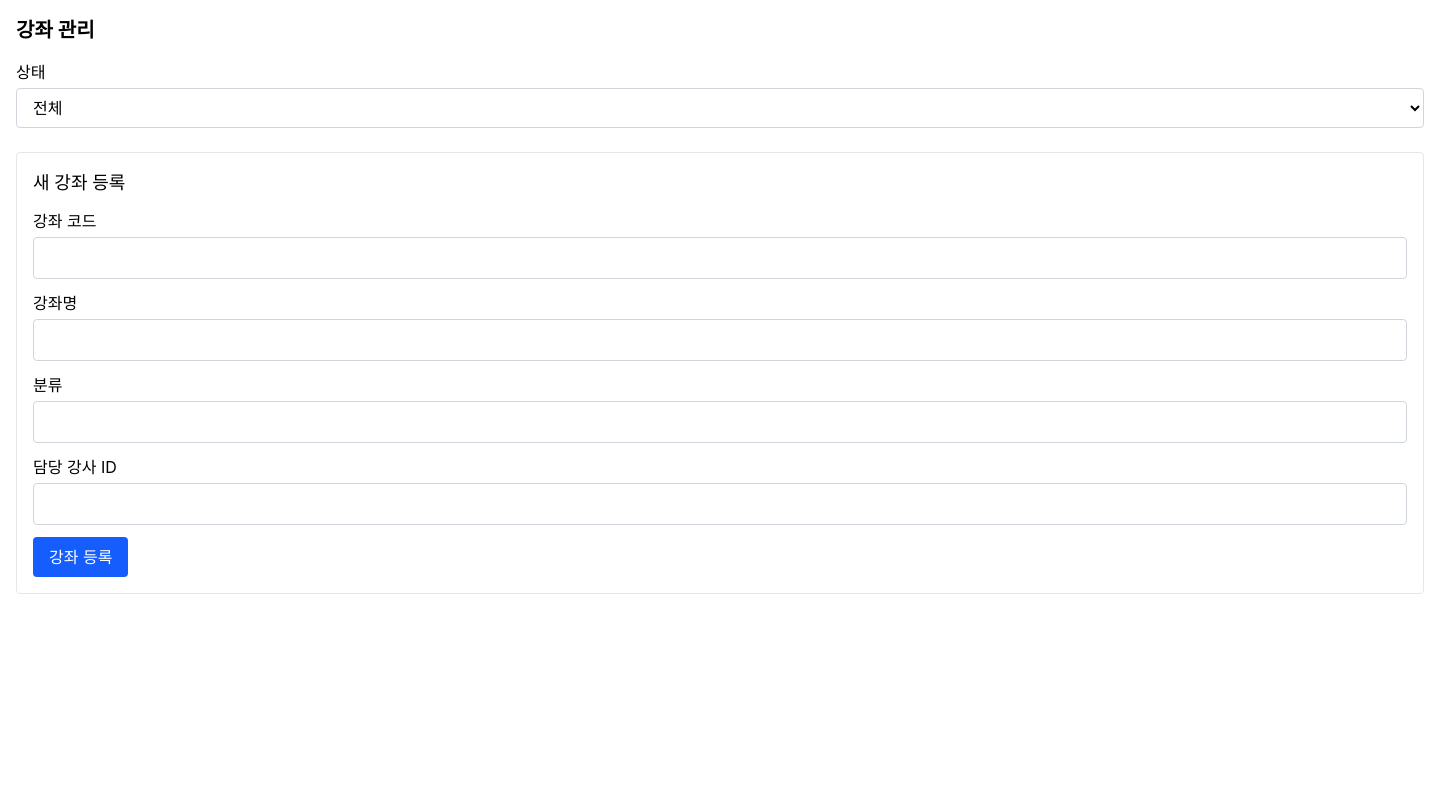
CourseListPage › submits the create form and reloads the list
Type "ENG-1" into the field labelled "강좌 코드".
click(720, 258); type("ENG-1")  # box 33,237 -> 1407,279
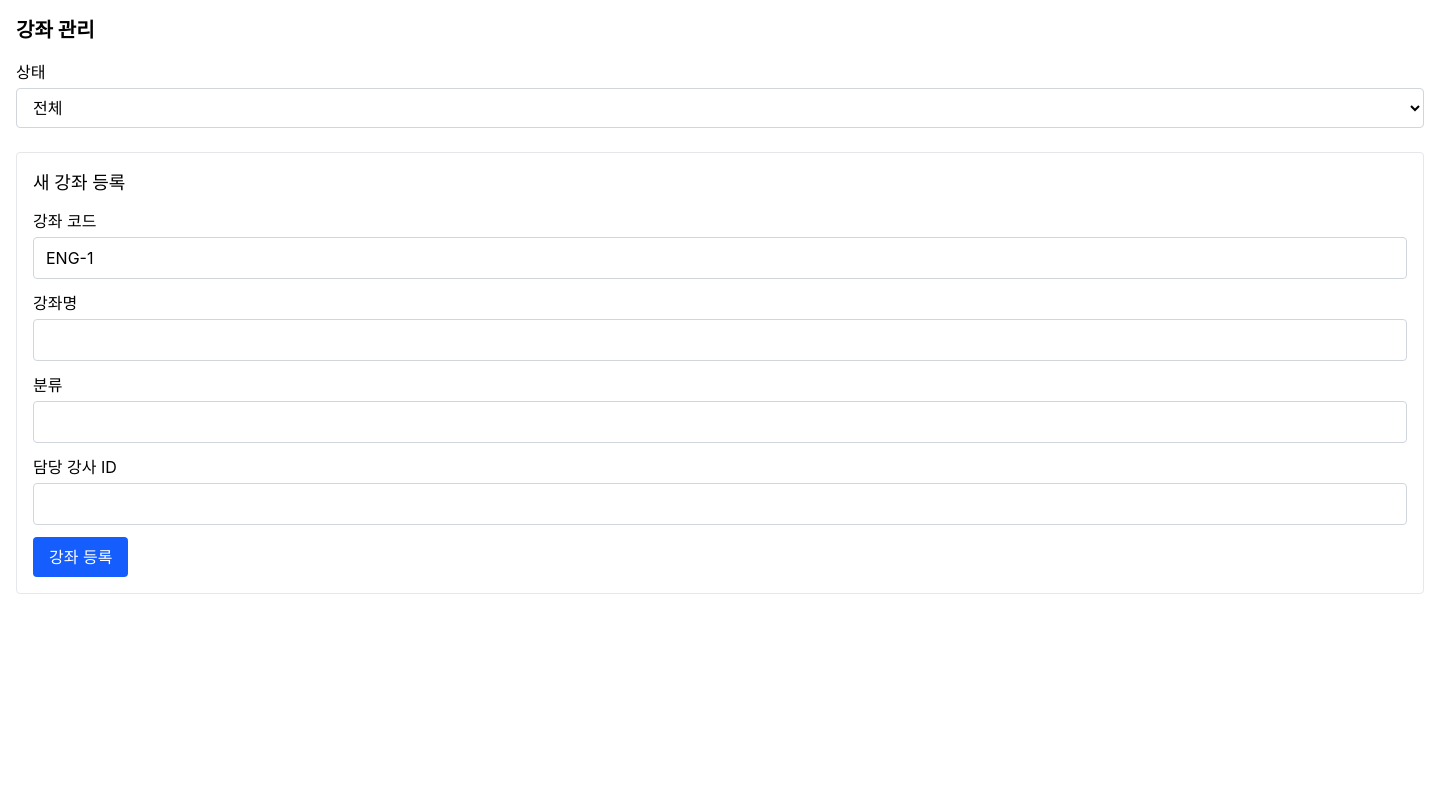
Type "영어 심화반" into the field labelled "강좌명".
click(720, 340); type("영어 심화반")  # box 33,319 -> 1407,361
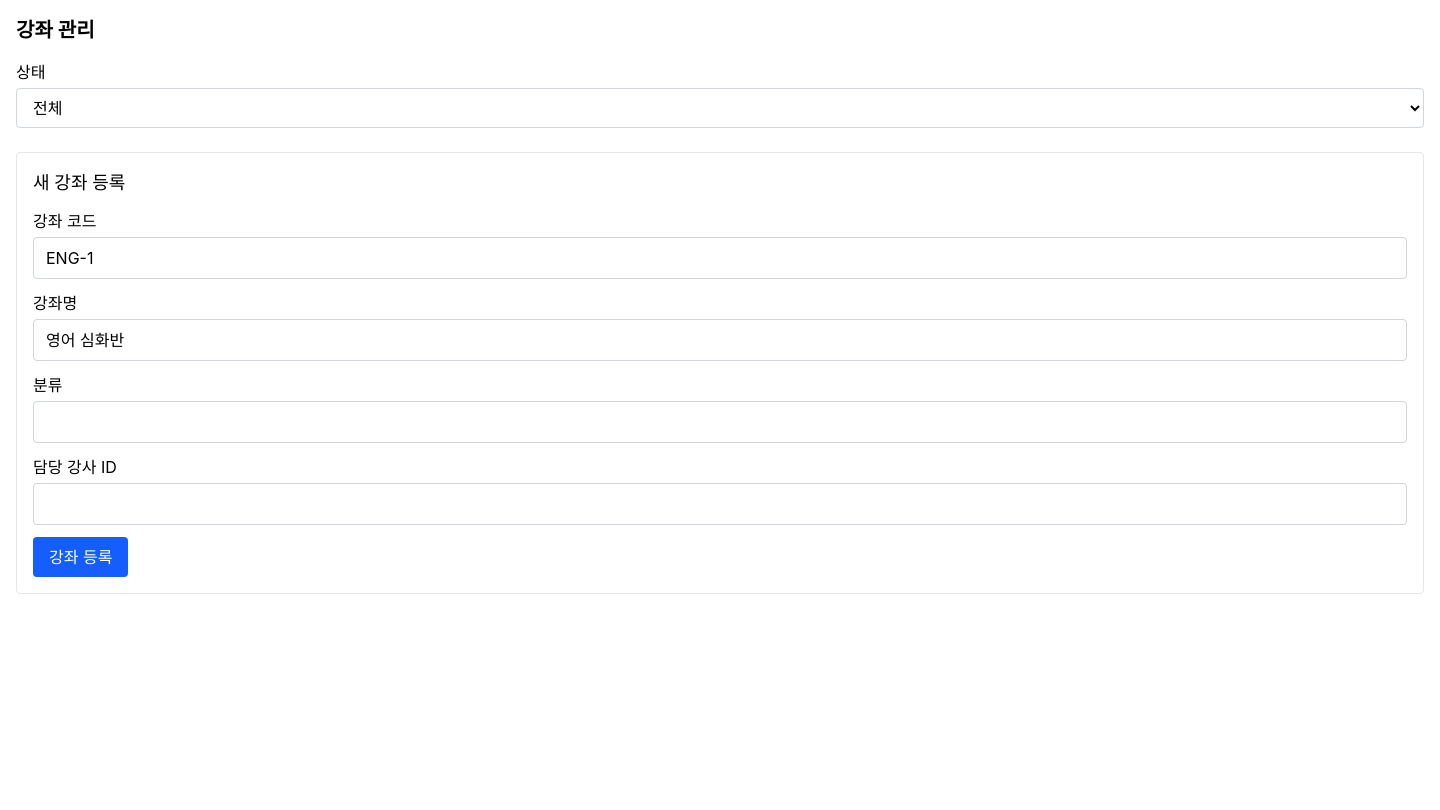
Type "영어" into the field labelled "분류".
click(720, 422); type("영어")  # box 33,401 -> 1407,443
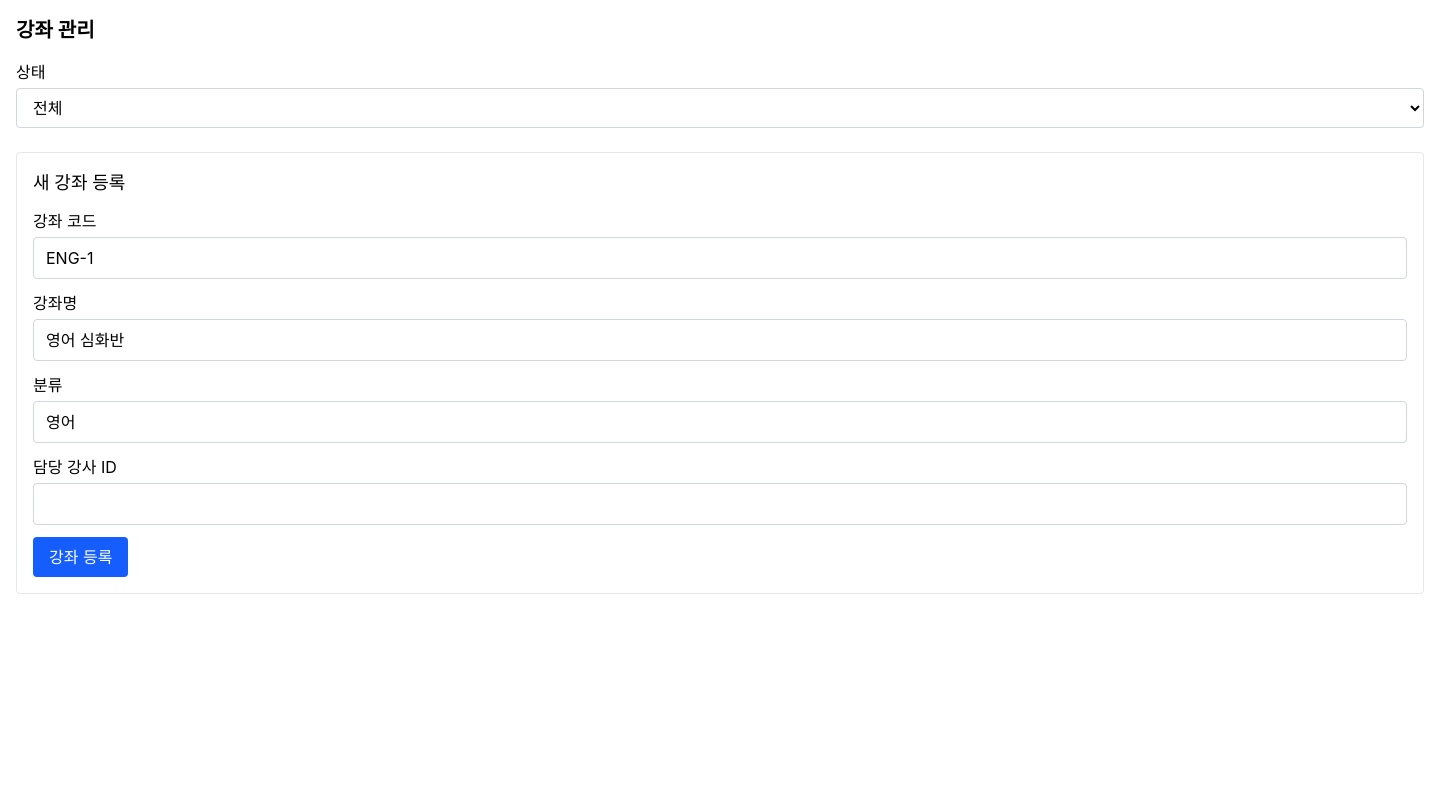
Type "i1" into the field labelled "담당 강사 ID".
click(720, 504); type("i1")  # box 33,483 -> 1407,525
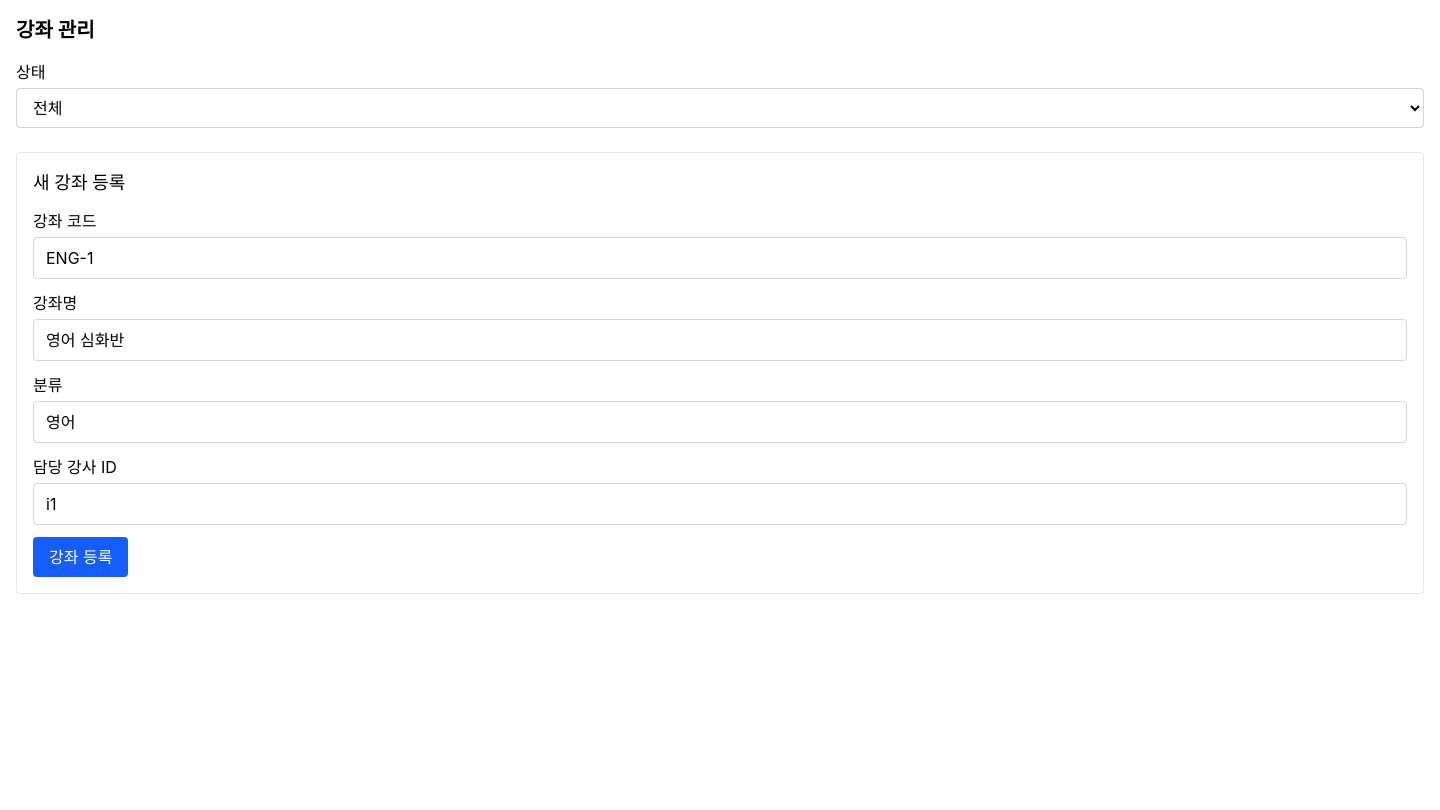
Click the button "강좌 등록".
click(81, 557)  # box 33,537 -> 128,577
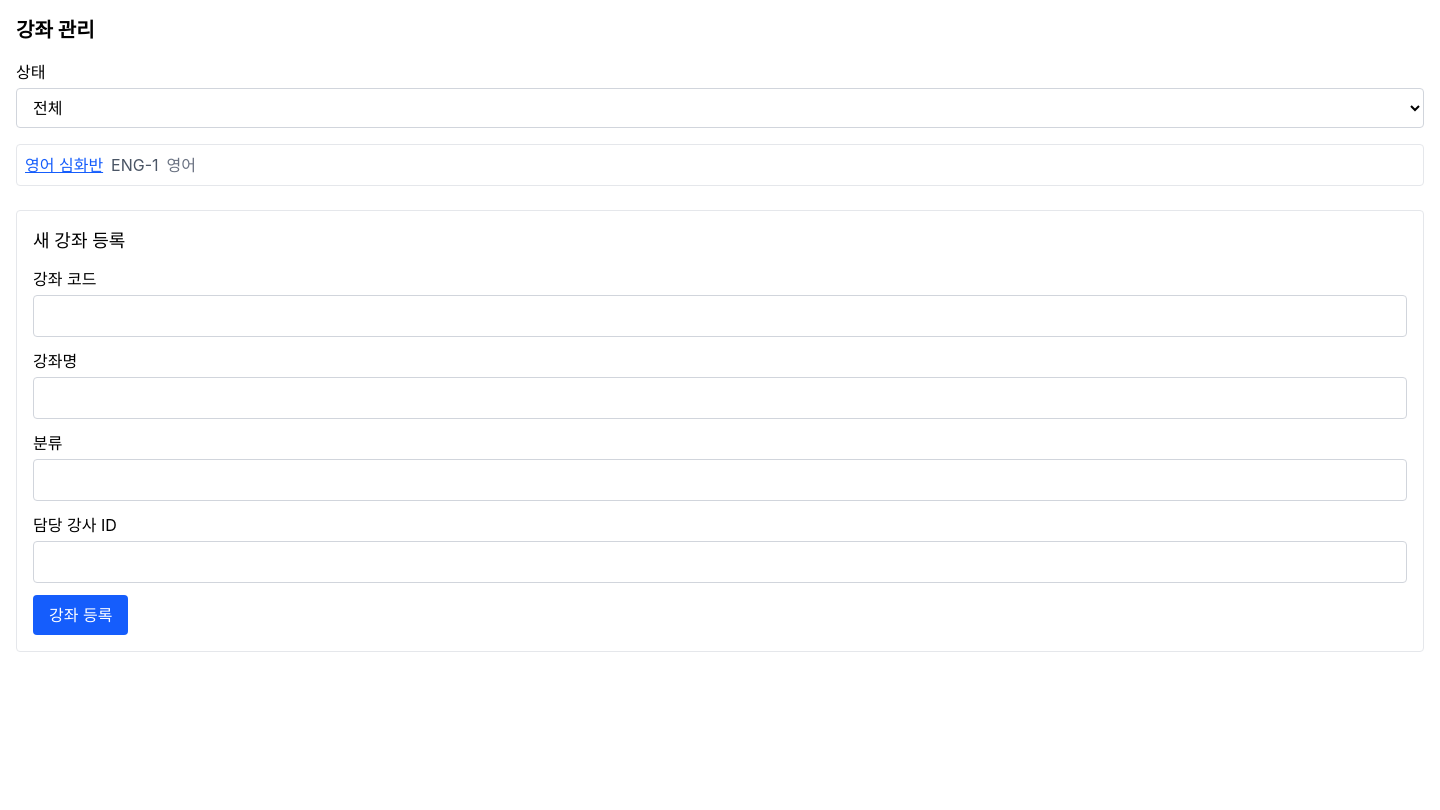
Check: the link "영어 심화반" is shown, box 25,155 -> 103,175
